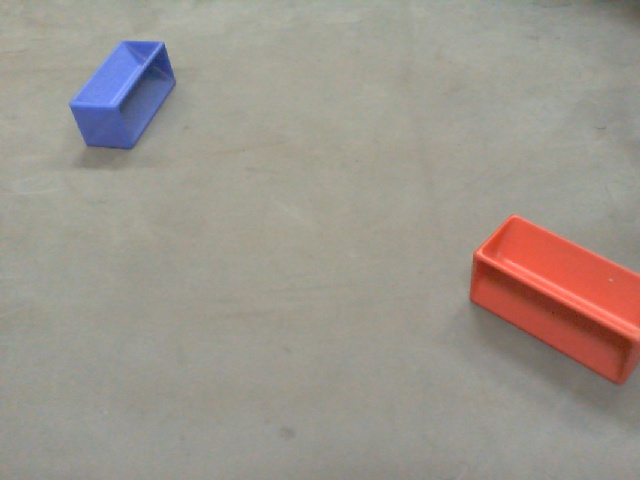BlueSample: (66, 37, 181, 157)
RedSample: (467, 206, 640, 389)
